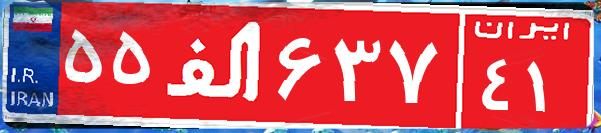1: (525, 38, 570, 115)
3: (330, 28, 385, 110)
4: (475, 38, 525, 113)
5: (57, 26, 110, 107), (110, 28, 158, 105)
6: (273, 28, 330, 110)
7: (385, 28, 445, 110)
الف: (158, 15, 273, 115)
